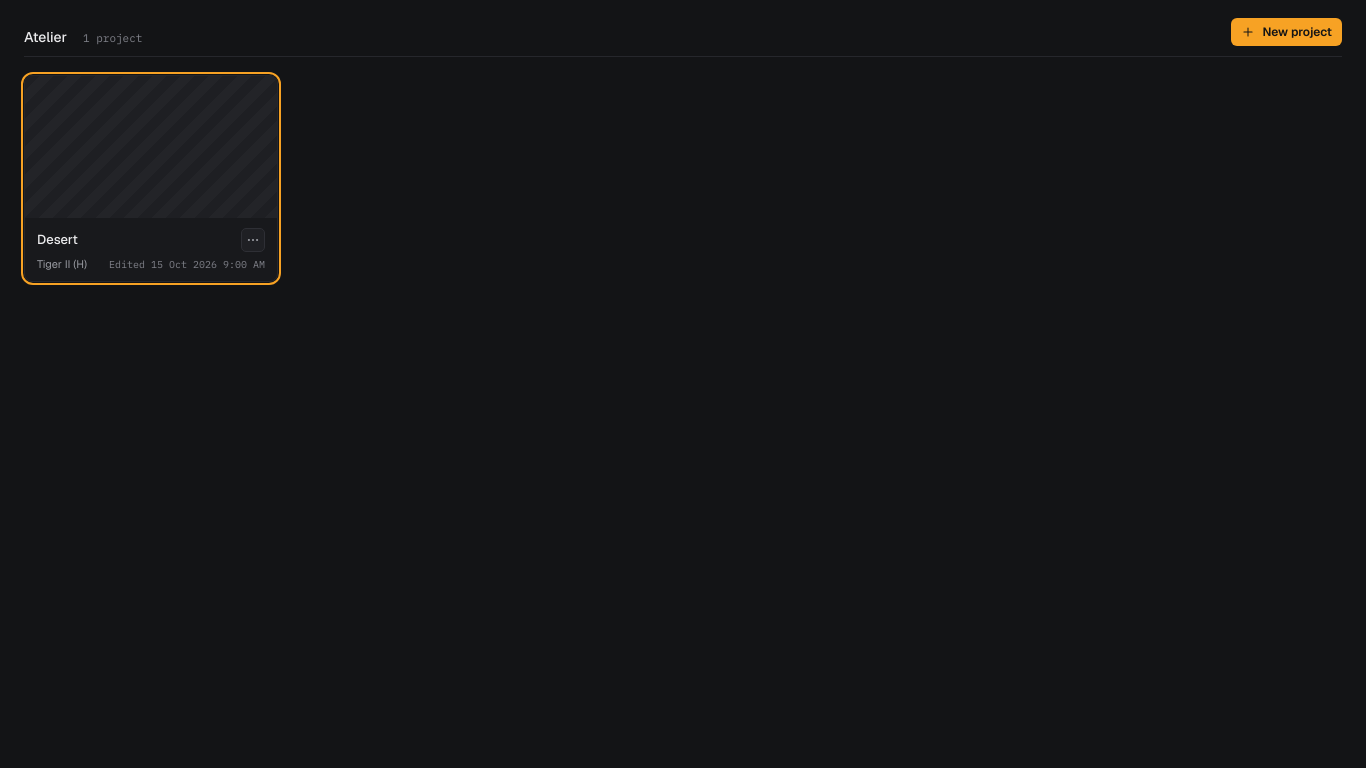
Test: Atelier home › renames in place (F2), saves on Enter, and Undo puts the old name back
Press F2
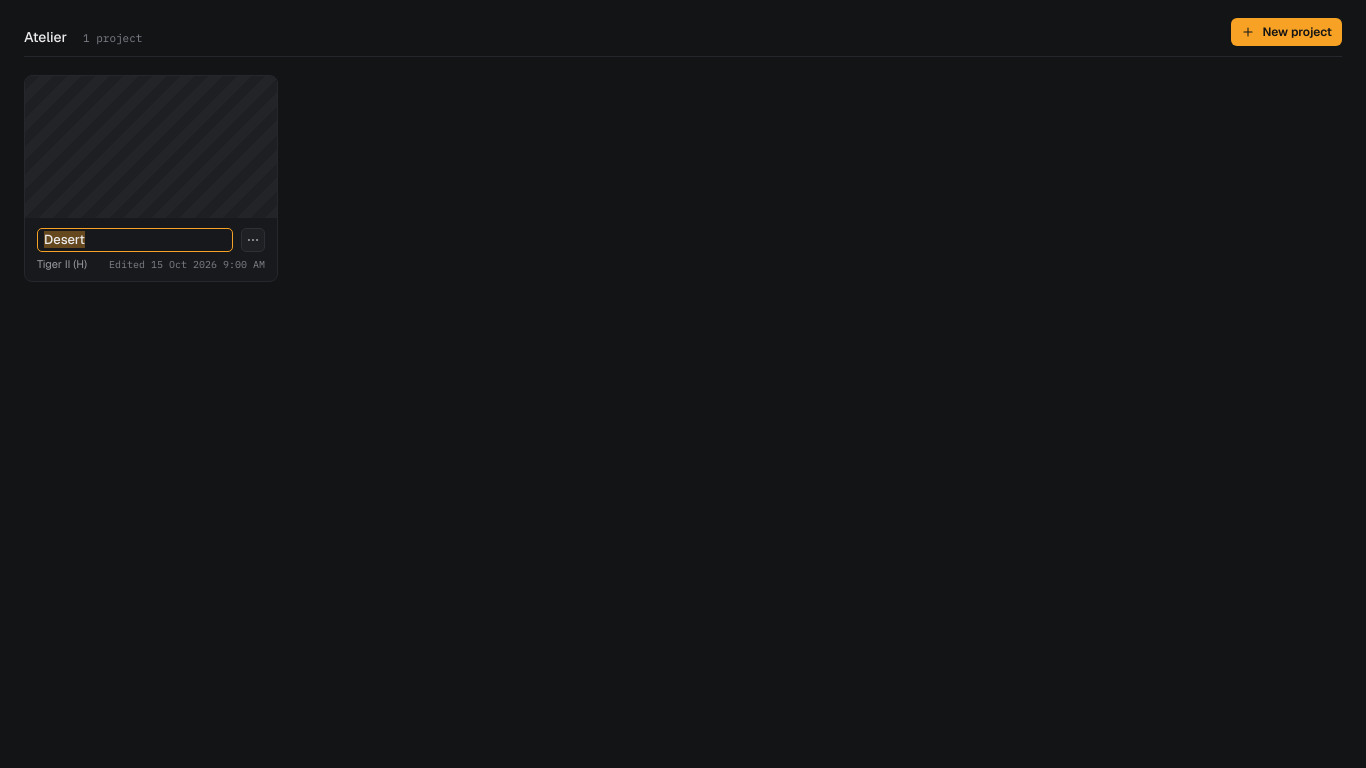
Replace the text in the field named "New name for Desert" with "Sand" at (135, 240), box [37,228,233,252]
Then press Enter
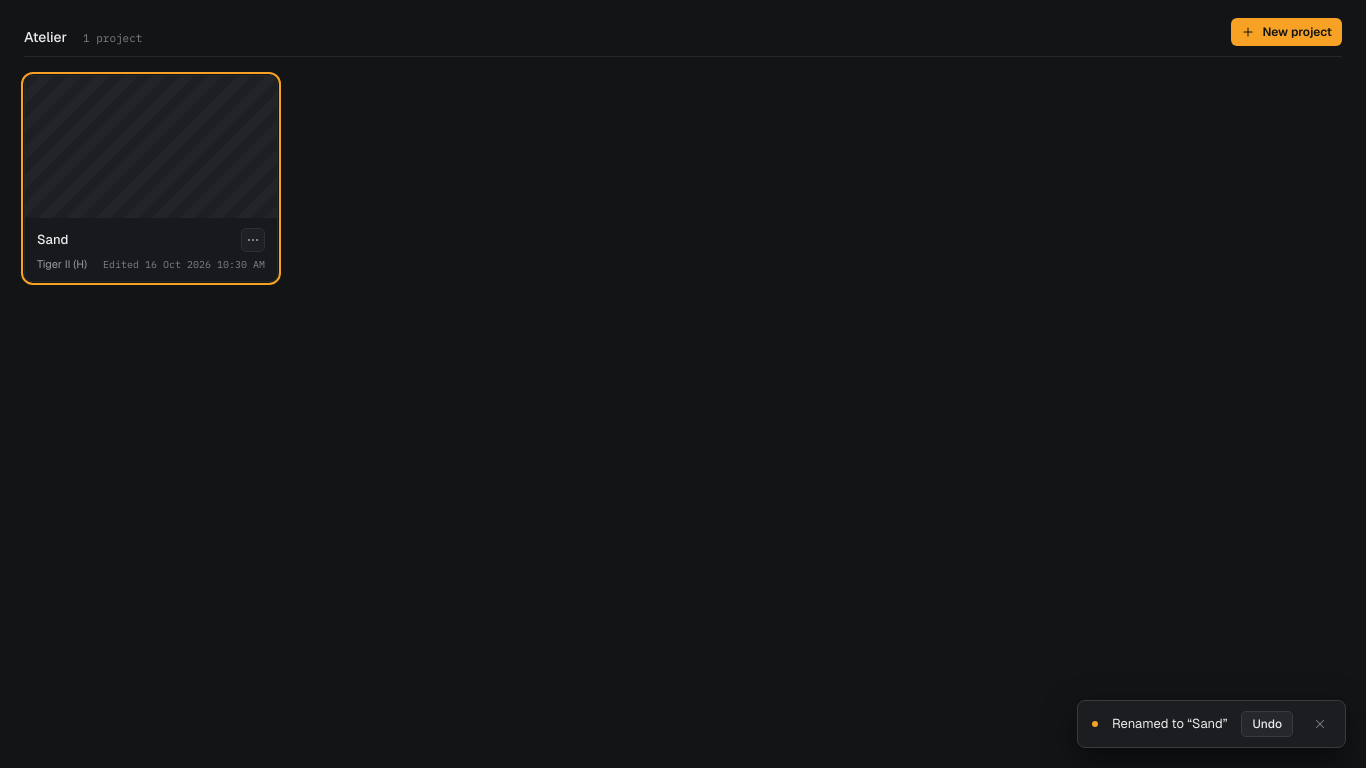
Now the text "Sand" is shown, box [37,231,68,248]
Now the button named "Sand" is shown, box [25,76,277,281]
Click the button "Undo" at (1267, 724), box [1242,711,1293,737]
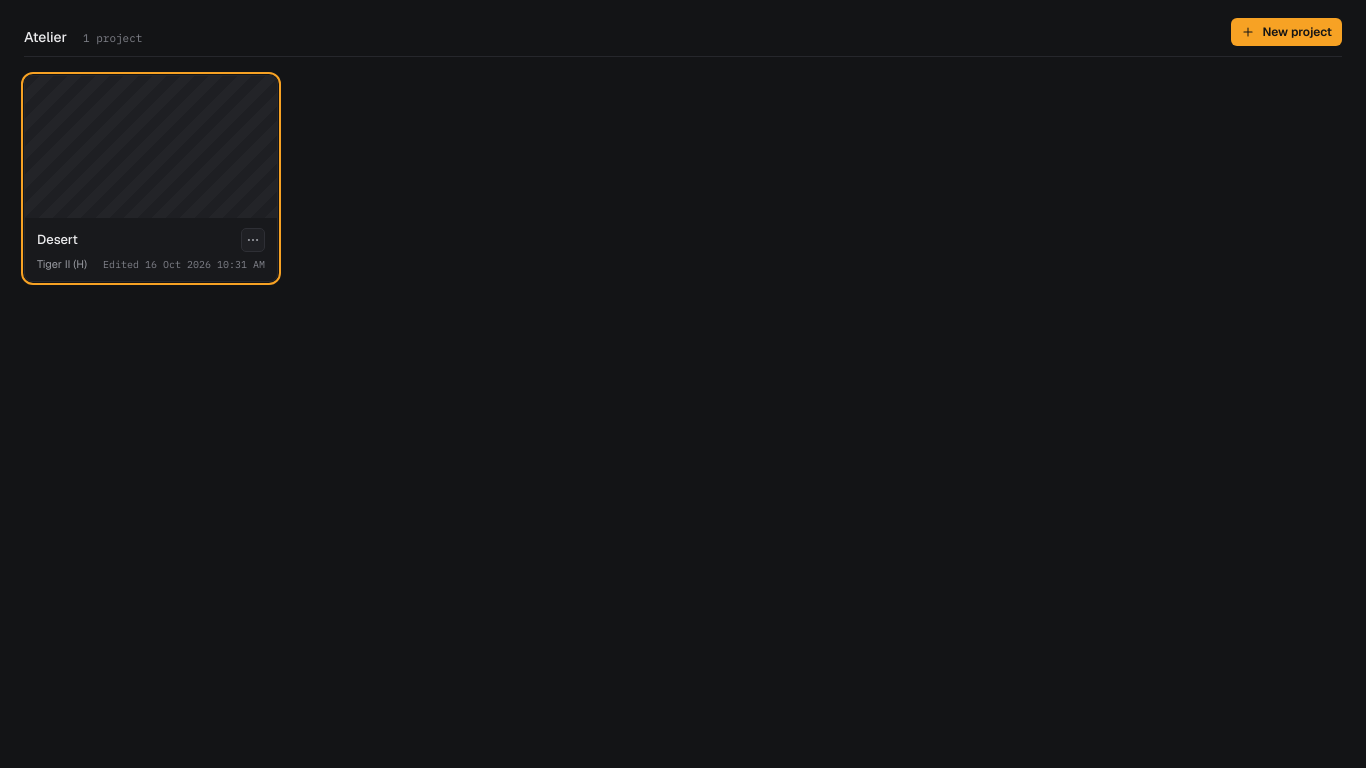
Now the button named "Desert" is shown, box [25,76,277,281]
Now the text "Desert" is shown, box [37,231,78,248]
